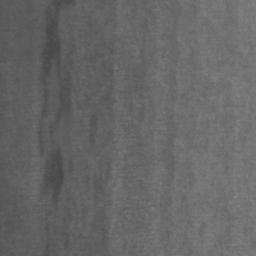Inclusion: (40, 0, 61, 86), (41, 147, 64, 204)
